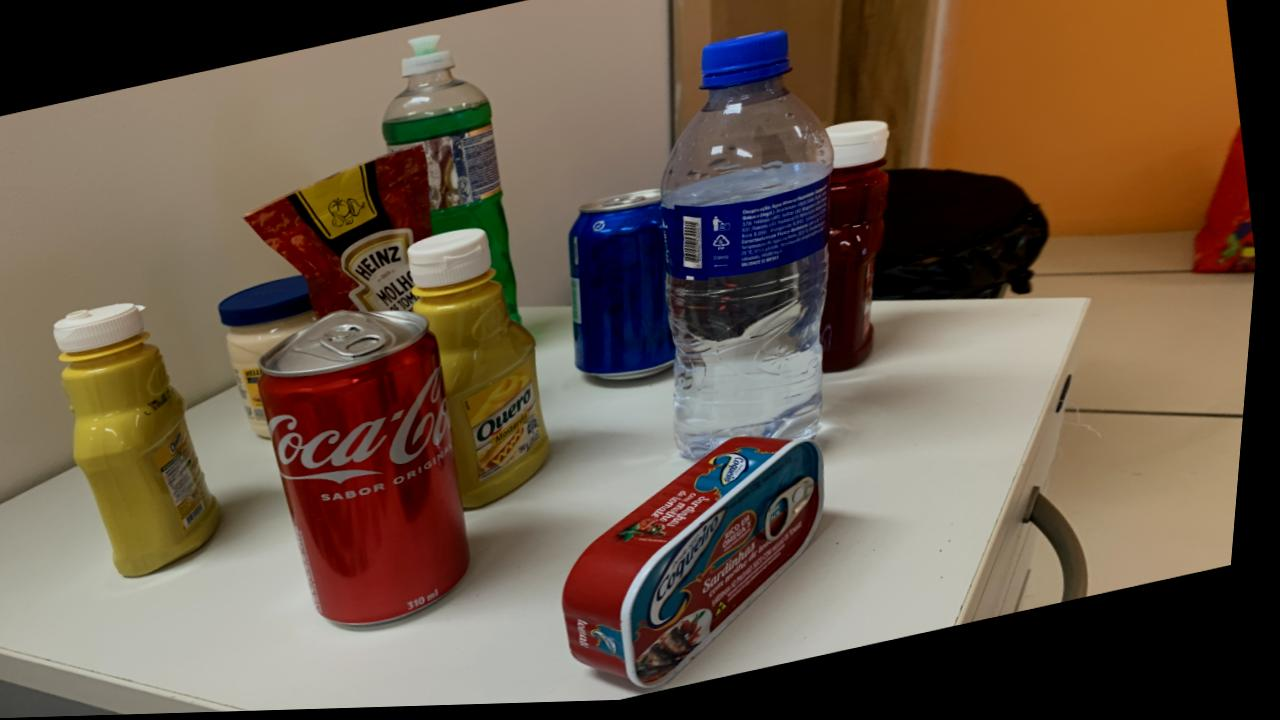Coke-Drinks: (264, 312, 480, 628)
Detergent-Cleanup_Items: (384, 38, 525, 324)
Ketchup-Pantry_Items: (825, 125, 893, 377)
Mayonnaise-Pantry_Items: (224, 276, 323, 440)
Mustard-Pantry_Items: (58, 303, 229, 578), (411, 230, 557, 510)
Tomato_Sauce-Pantry_Items: (248, 148, 436, 319)
Tonic-Drinks: (572, 192, 681, 384)
Tuna_Can-Pantry_Items: (572, 442, 833, 692)
Water_Bottle-Drinks: (664, 35, 836, 463)
